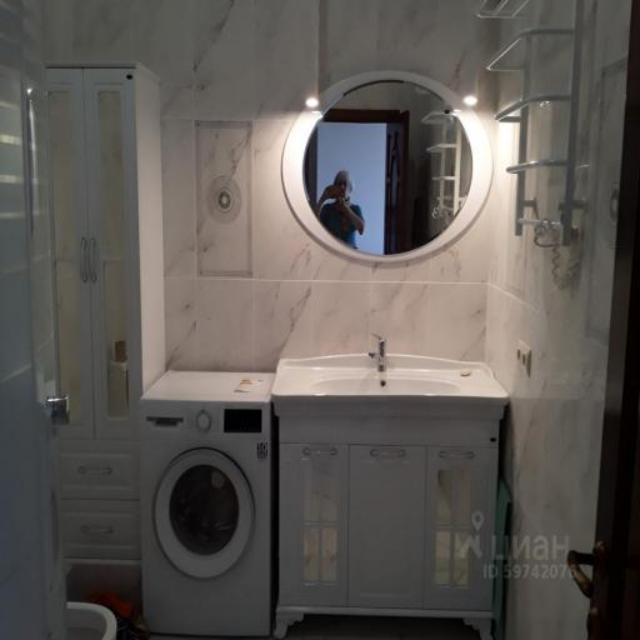Washing-Machine: (138, 370, 274, 638)
